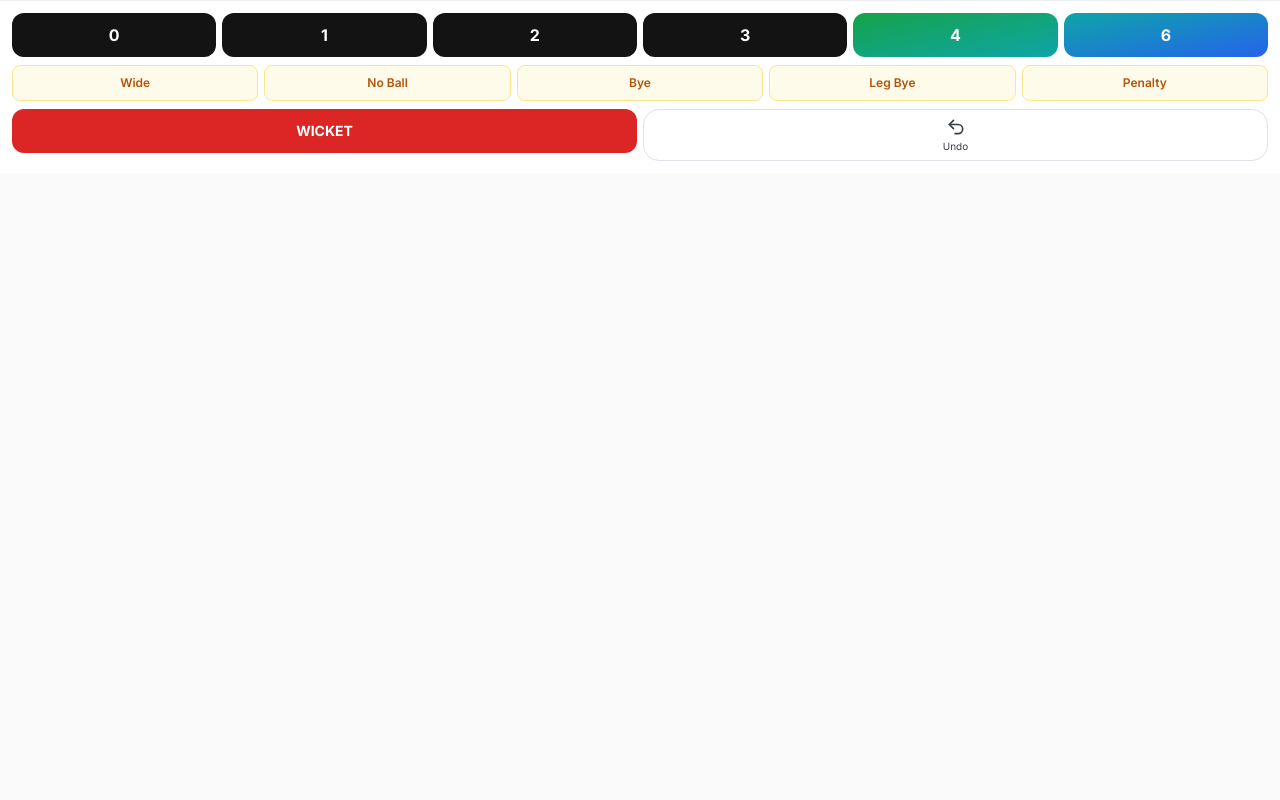
Test case: BallInputPanel › clicking "No Ball" opens sheet with options including 6
The width and height of the screenshot is (1280, 800).
What coordinates should you click on to do the following:
click the button "No Ball"
I would click on:
 (388, 83)
Its box is [264,65,511,101].
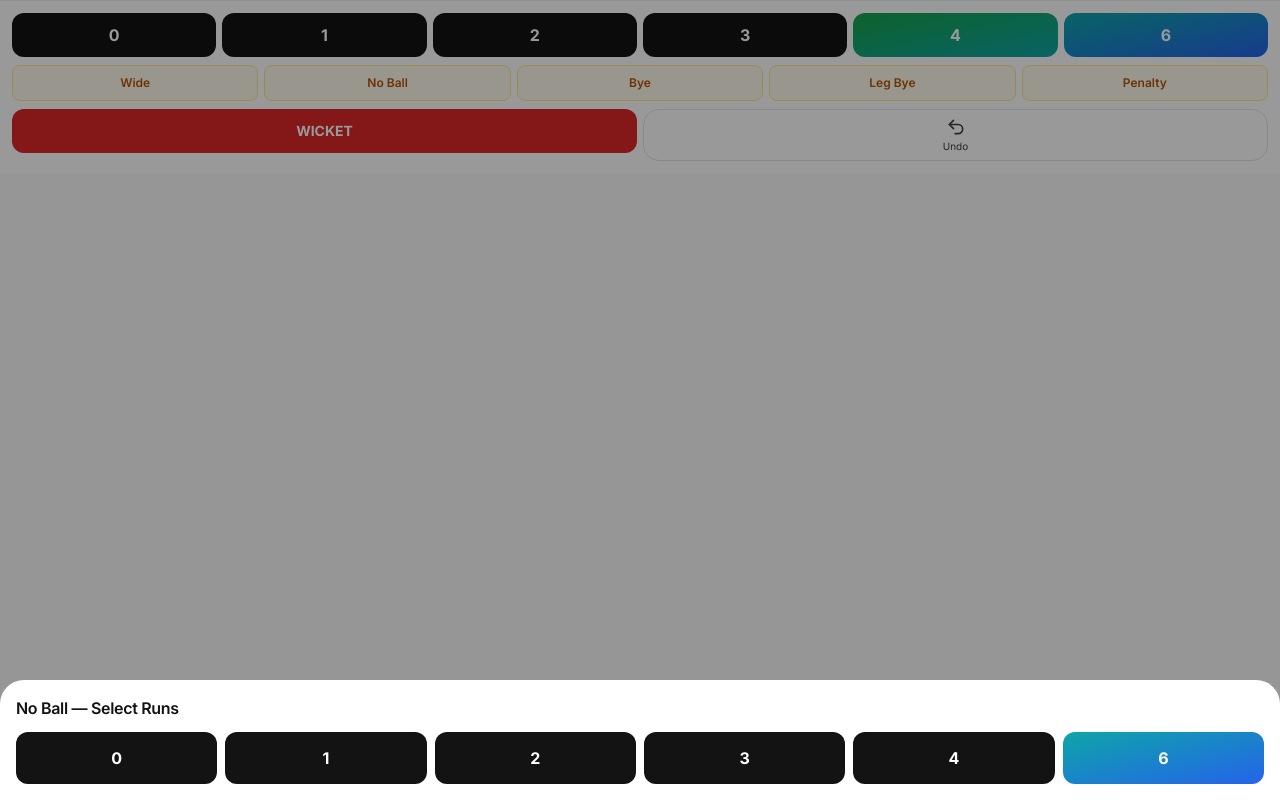
Check: the heading "no ball — select runs" is shown, box [16,698,179,718]
